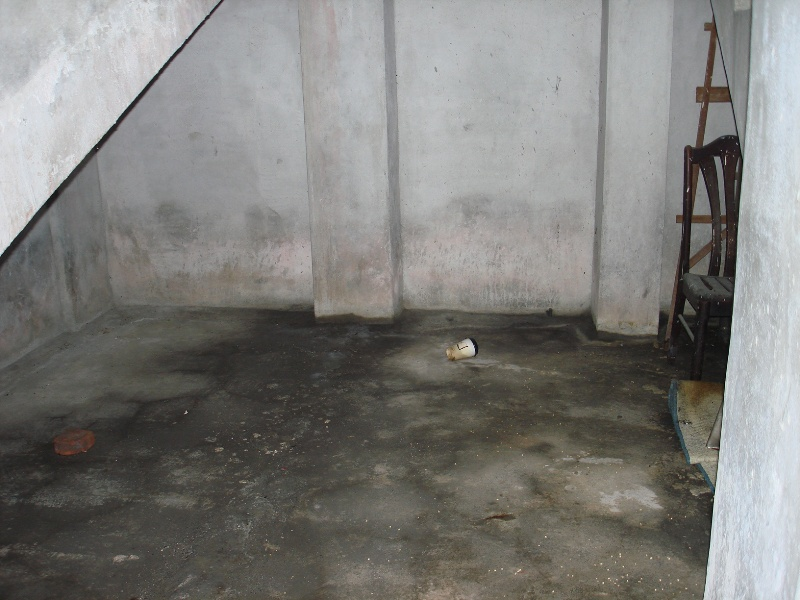bottle: (446, 338, 479, 362)
